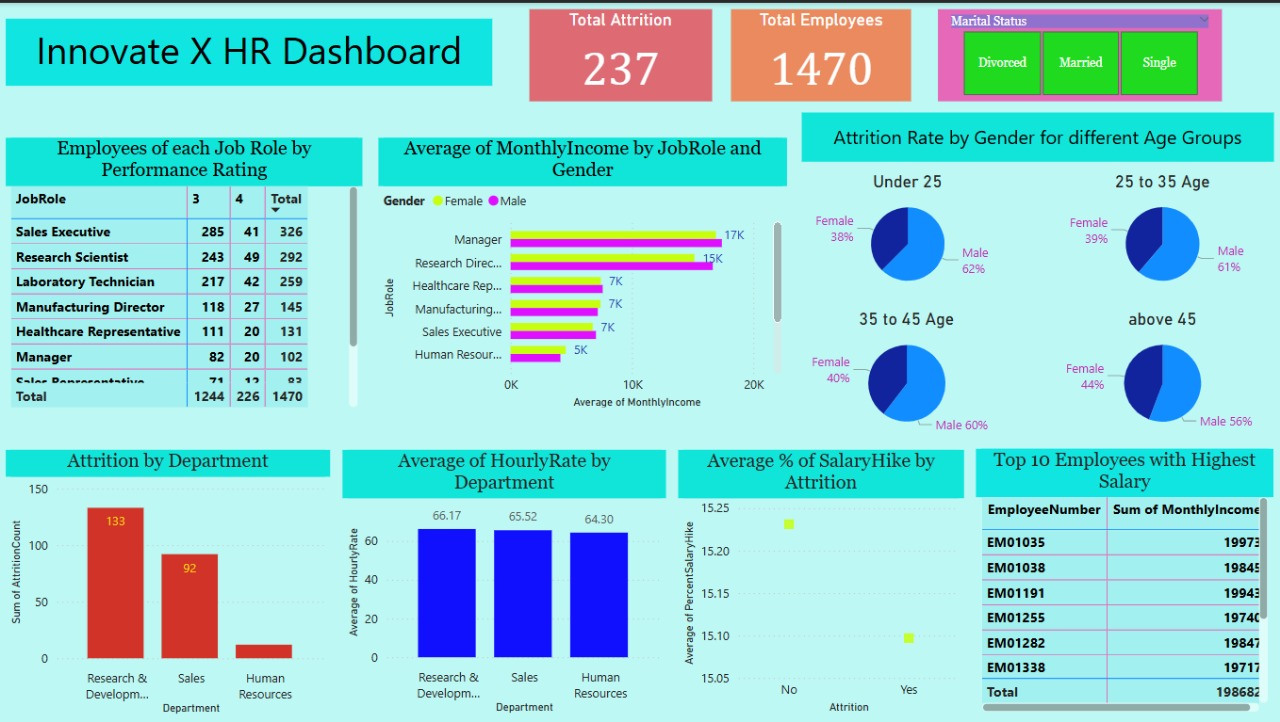

Layout of this report page (visuals, bound fields, positions):
{"tool":"powerbi","page":{"name":"Page 1","canvas":[1280,720],"ordinal":0},"visuals":[{"type":"textbox","box":[9.7,15.6,485,67.1],"z":0},{"type":"card","title":"Total Attrition","fields":{"Values":["Sum(Employee_Details.AttritionCount)"]},"box":[531.6,5.8,181.7,92.3],"z":1000},{"type":"card","title":"Total Employees","fields":{"Values":["CountNonNull(Employee_Details.EmployeeNumber)"]},"box":[731.8,5.8,179.8,92.3],"z":2000},{"type":"pieChart","title":"Under 25","fields":{"Category":["Employee_Details.Gender","Employee_Details.Age","Employee_Details.Attrition"],"Y":["Sum(Employee_Details.Age)"]},"box":[802.8,168.1,210.9,124.4],"z":3000},{"type":"columnChart","title":"Attrition by Department","fields":{"Category":["Employee_Details.Department"],"Y":["Sum(Employee_Details.AttritionCount)"]},"box":[9.9,446,323.3,268.7],"z":4000},{"type":"pivotTable","title":"Employees of each Job Role by Performance Rating","fields":{"Rows":["Employee_Details.JobRole"],"Values":["CountNonNull(Employee_Details.EmployeeNumber)"],"Columns":["Employee_Details.PerformanceRating"]},"box":[9.9,134.3,355.5,274],"z":5000},{"type":"columnChart","fields":{"Category":["Employee_Details.Department"],"Y":["Avg(Employee_Details.HourlyRate)"]},"box":[345,446.1,322.7,267.3],"z":6000},{"type":"clusteredBarChart","fields":{"Category":["Employee_Details.JobRole"],"Y":["Avg(Employee_Details.MonthlyIncome)"],"Series":["Employee_Details.Gender"]},"box":[381,134.1,407.2,274.1],"z":7000},{"type":"scatterChart","title":"Average % of SalaryHike by Attrition","fields":{"Y":["Avg(Employee_Details.PercentSalaryHike)"],"X":["Employee_Details.Attrition"]},"box":[679.4,446.1,284.8,267.3],"z":8000},{"type":"tableEx","title":"Top 10 Employees with Highest Salary","fields":{"Values":["Employee_Details.EmployeeNumber","Sum(Employee_Details.MonthlyIncome)"]},"box":[976.1,445.1,296.4,267.8],"z":9000},{"type":"slicer","fields":{"Values":["Employee_Details.MaritalStatus"]},"box":[937.9,5.8,282.8,92.3],"z":10000},{"type":"pieChart","title":"25 to 35 Age","fields":{"Category":["Employee_Details.Gender","Employee_Details.Attrition","Employee_Details.Age"],"Y":["Sum(Employee_Details.Age)"]},"box":[1052.2,168.4,220.3,124.5],"z":11000},{"type":"pieChart","title":"35 to 45 Age","fields":{"Category":["Employee_Details.Gender","Employee_Details.Attrition","Employee_Details.Age"],"Y":["Sum(Employee_Details.Age)"]},"box":[801.8,305.2,210.9,129.3],"z":12000},{"type":"pieChart","title":"above 45","fields":{"Category":["Employee_Details.Gender","Employee_Details.Age","Employee_Details.Attrition"],"Y":["Sum(Employee_Details.Age)"]},"box":[1052.2,305.4,220.3,129],"z":13000},{"type":"textbox","box":[802.4,109.3,470.1,49.3],"z":14000}]}

Visuals, with their boxes in screenshot pixels (x1, y1, x2, y2), scaled from the page's 1280x720 canvas onto the 1280x722 screenshot:
textbox: x1=10, y1=16, x2=495, y2=83
"Total Attrition" card: x1=532, y1=6, x2=713, y2=98
"Total Employees" card: x1=732, y1=6, x2=912, y2=98
"Under 25" pieChart: x1=803, y1=169, x2=1014, y2=293
"Attrition by Department" columnChart: x1=10, y1=447, x2=333, y2=717
"Employees of each Job Role by Performance Rating" pivotTable: x1=10, y1=135, x2=365, y2=409
columnChart - Employee_Details.Department x Avg(Employee_Details.HourlyRate): x1=345, y1=447, x2=668, y2=715
clusteredBarChart - Employee_Details.JobRole x Avg(Employee_Details.MonthlyIncome): x1=381, y1=134, x2=788, y2=409
"Average % of SalaryHike by Attrition" scatterChart: x1=679, y1=447, x2=964, y2=715
"Top 10 Employees with Highest Salary" tableEx: x1=976, y1=446, x2=1272, y2=715
slicer - Employee_Details.MaritalStatus: x1=938, y1=6, x2=1221, y2=98
"25 to 35 Age" pieChart: x1=1052, y1=169, x2=1272, y2=294
"35 to 45 Age" pieChart: x1=802, y1=306, x2=1013, y2=436
"above 45" pieChart: x1=1052, y1=306, x2=1272, y2=436
textbox: x1=802, y1=110, x2=1272, y2=159
